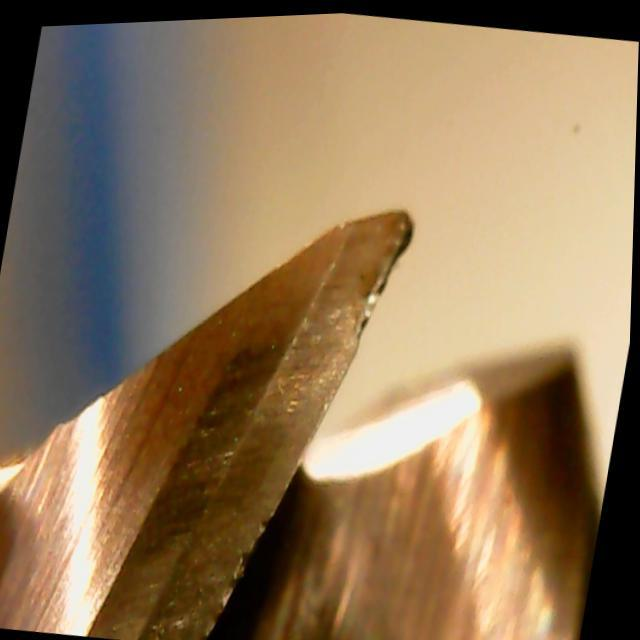Tool-wear-class-1: (203, 179, 436, 448)
